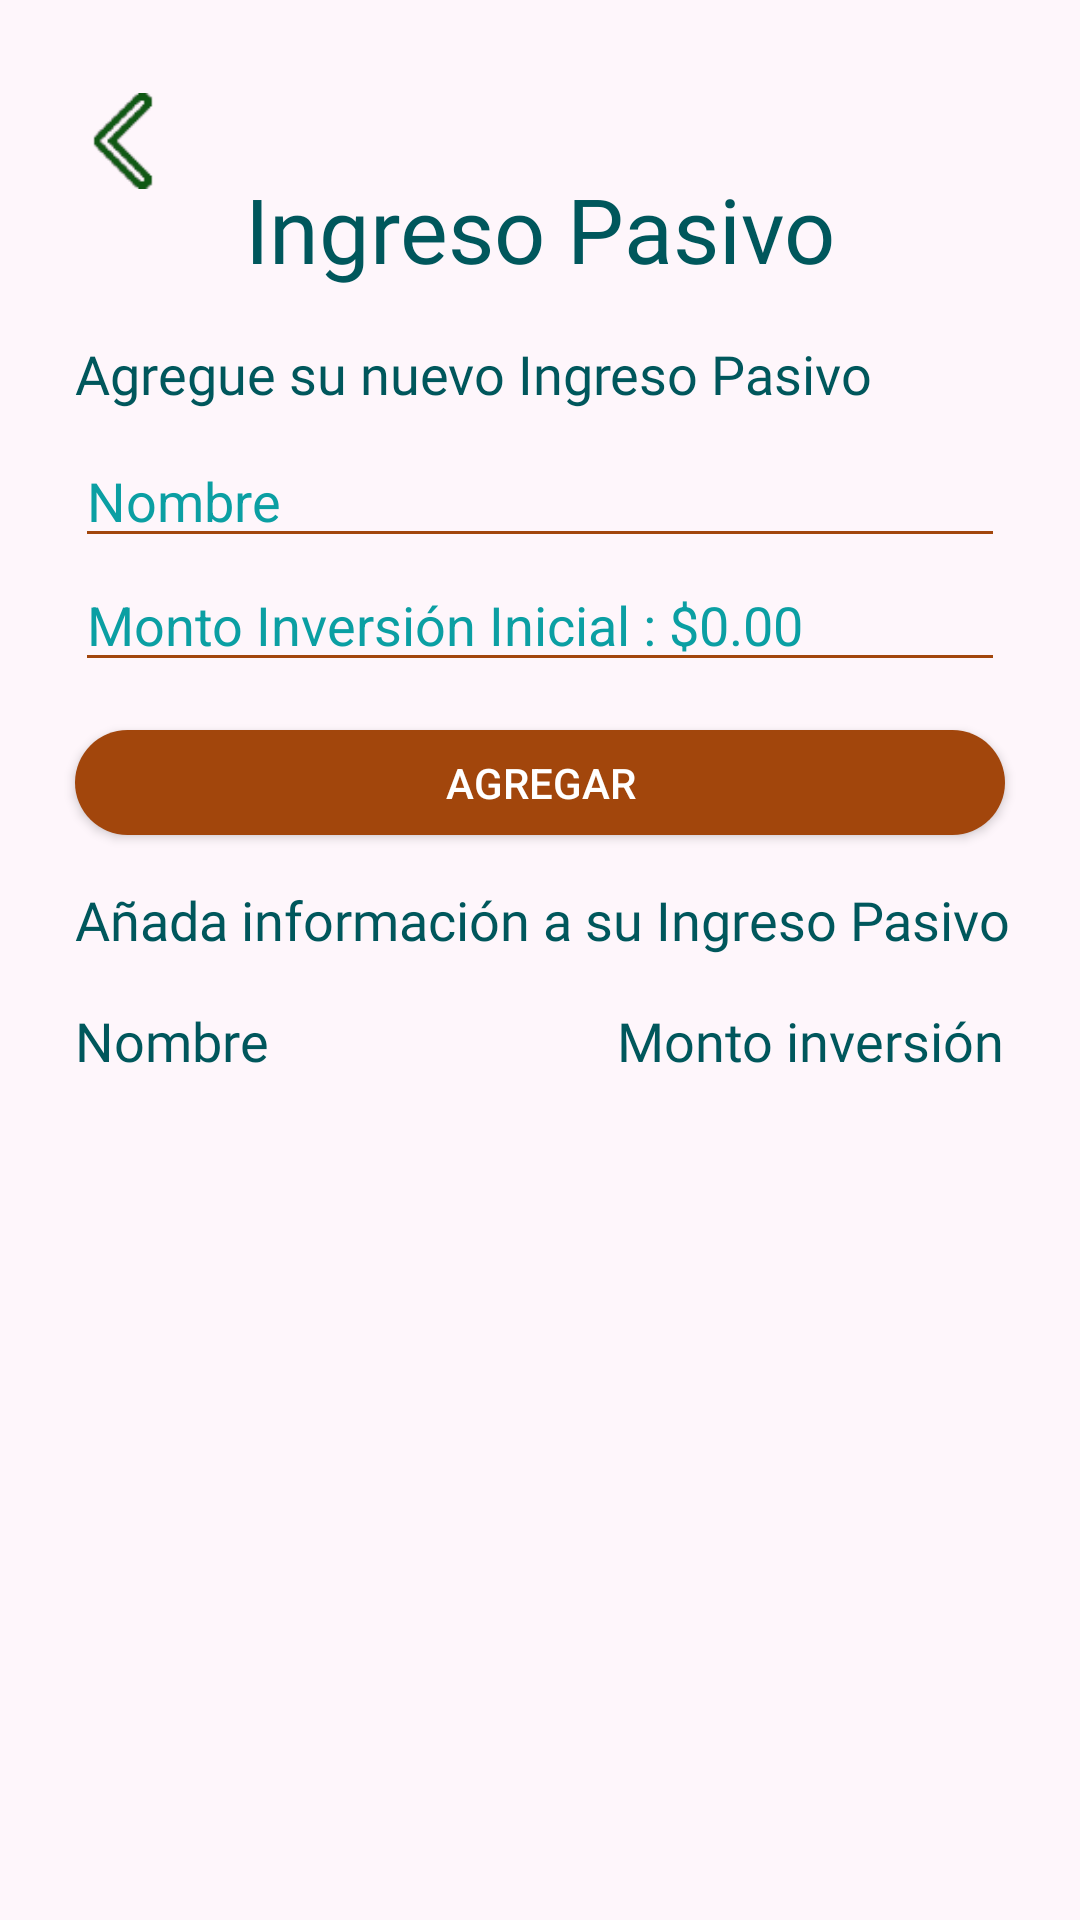

Icon click points for this 1080 × 1920 phone screenshot, format [x,y]:
flecha: [123,141]
